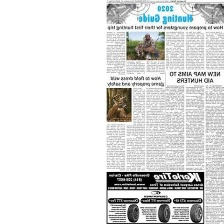news_paper: (105, 0, 224, 224)
